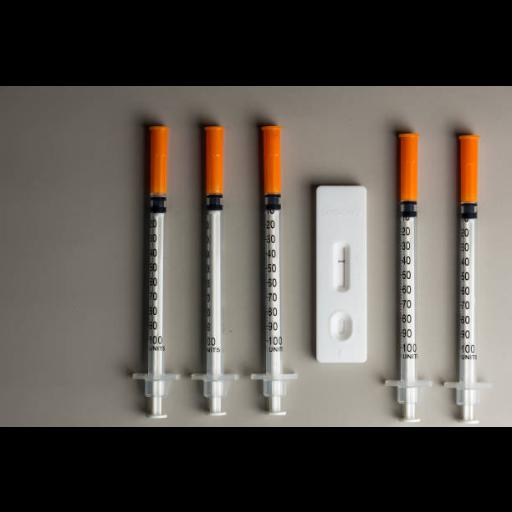Neg: (315, 186, 367, 360)
